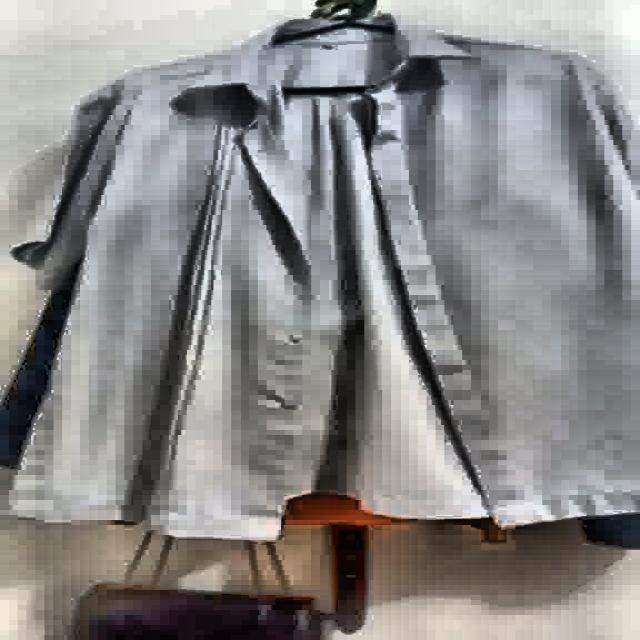clothes: (18, 16, 640, 545)
